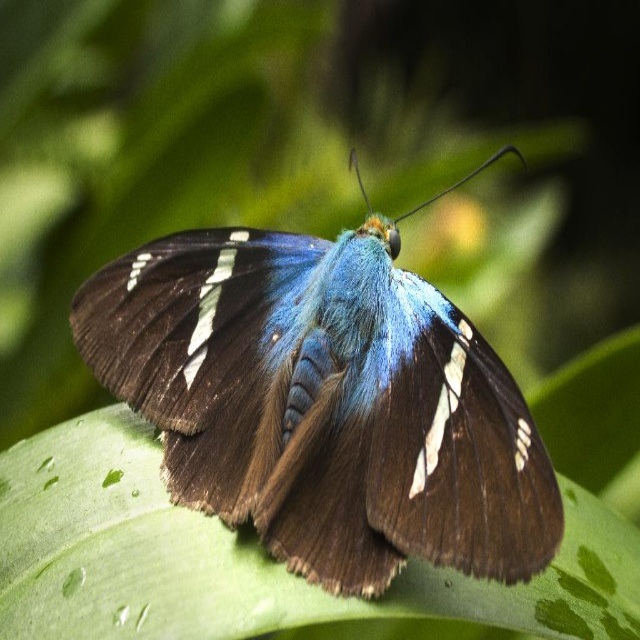Butterfly: (69, 147, 567, 607)
